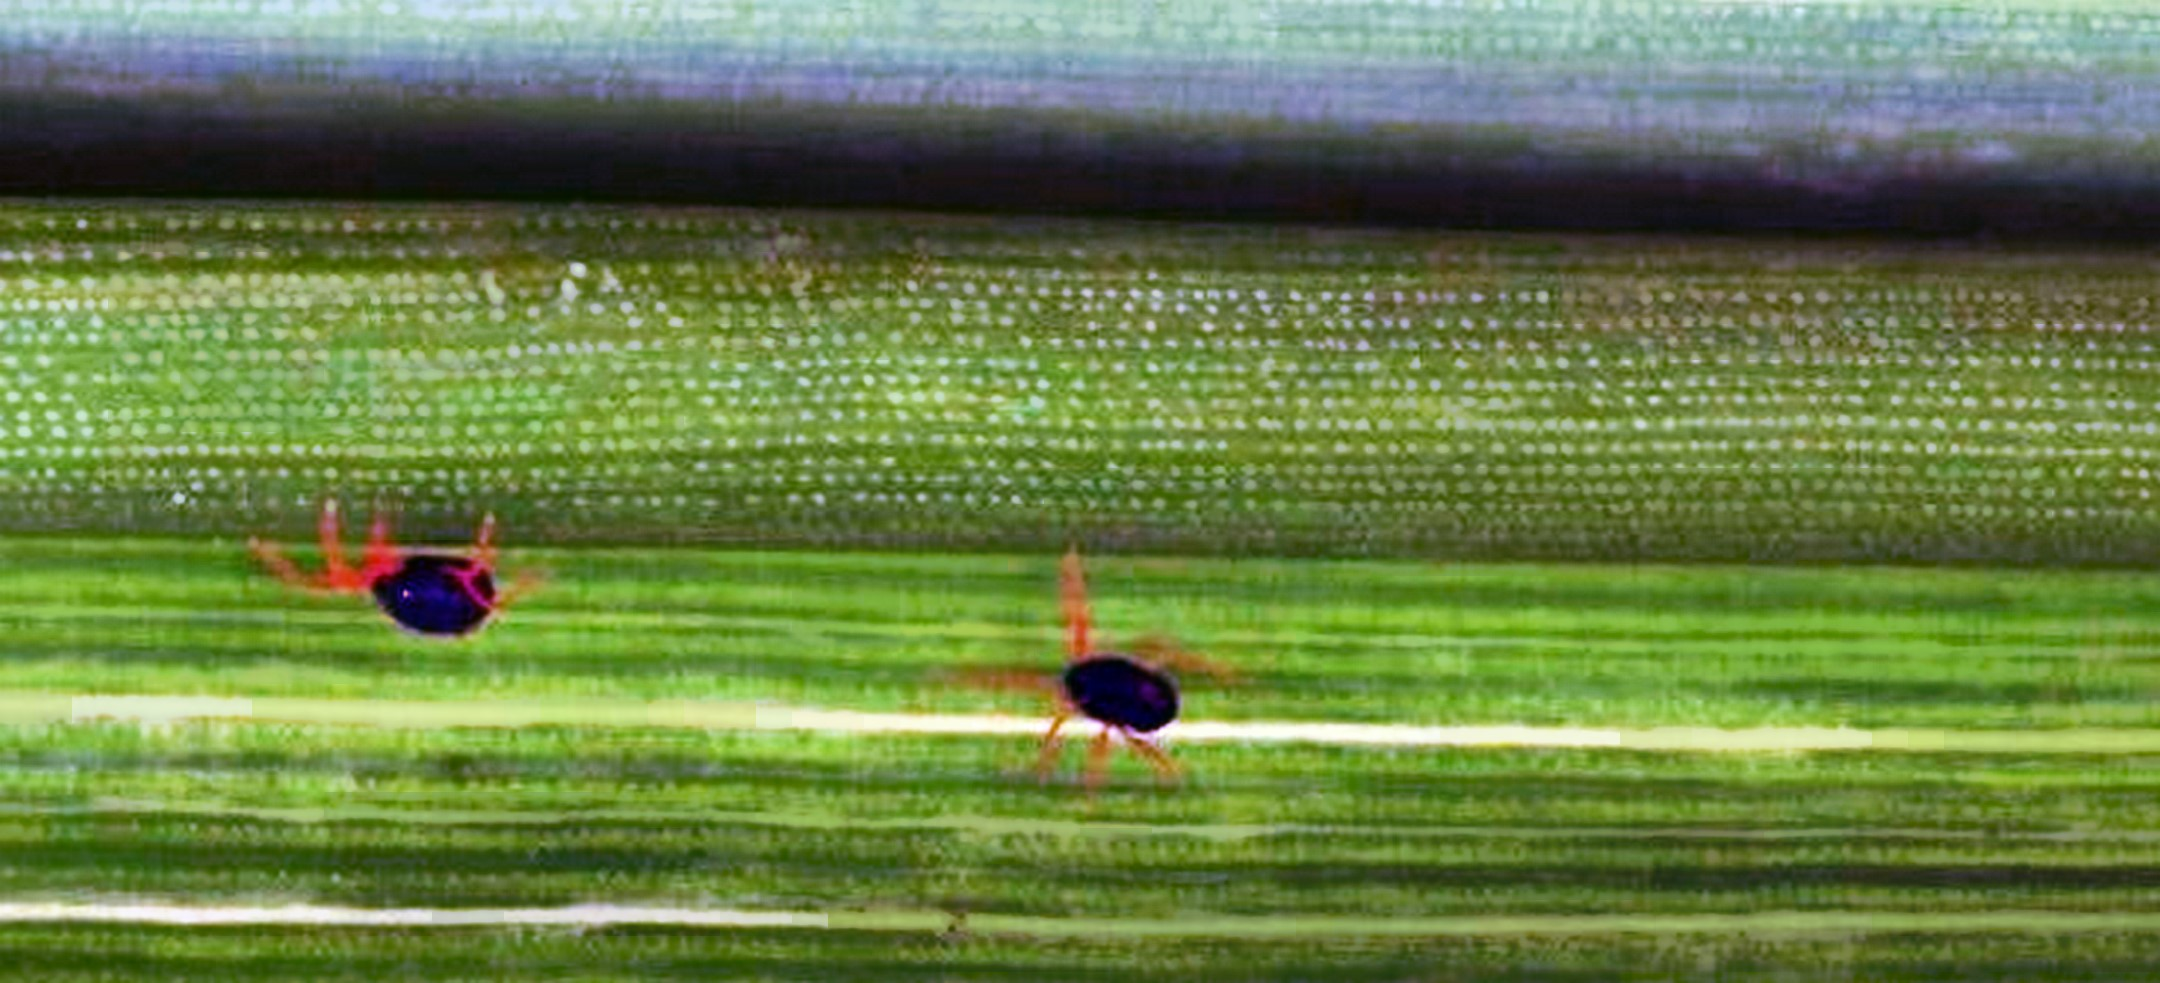Wheat Red Spider: (905, 541, 1269, 808)
